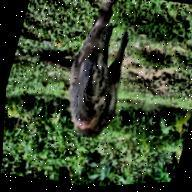boar: (51, 0, 146, 146)
